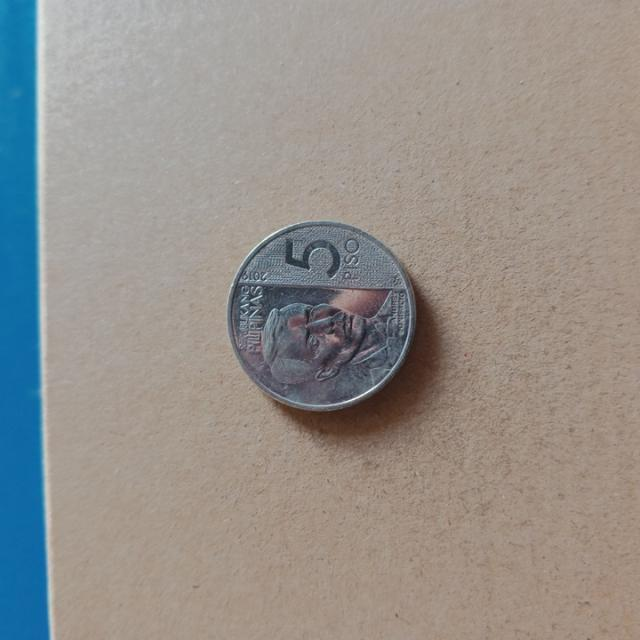5 peso: (217, 214, 423, 420)
